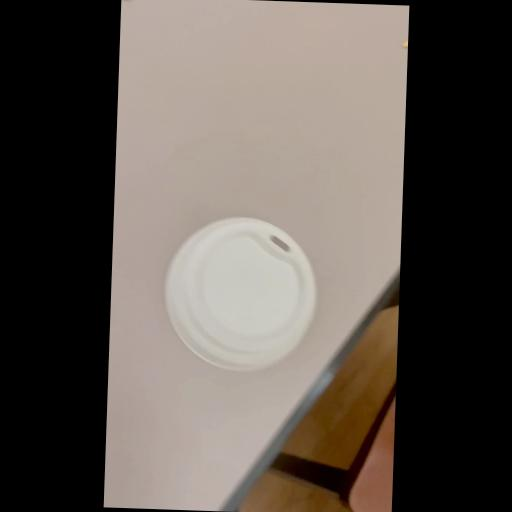lp_cup_lids: (146, 171, 340, 400)
